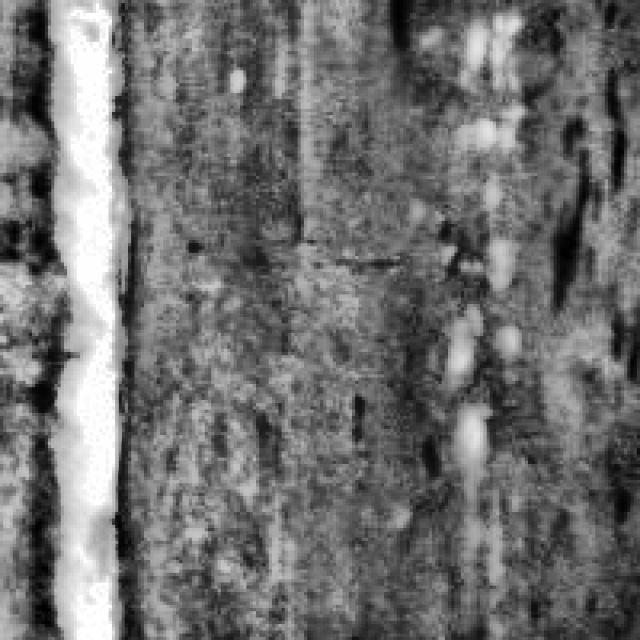Inclusion: (32, 0, 131, 634), (442, 19, 522, 454)
Patches: (540, 48, 634, 346)
